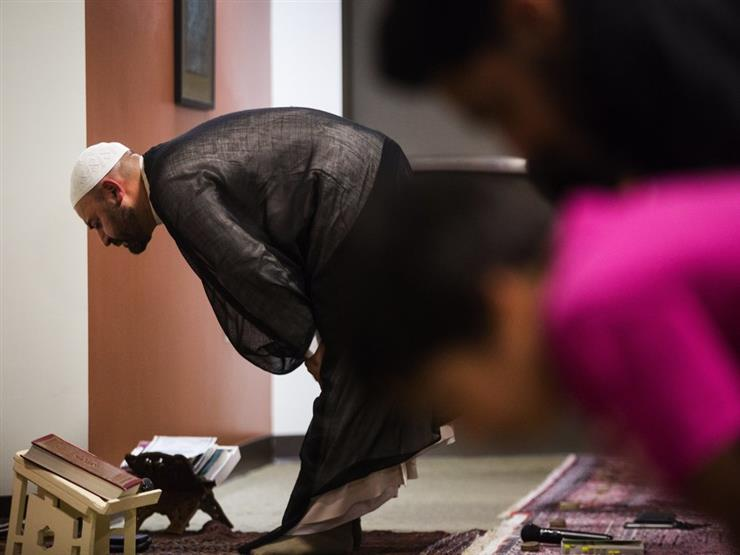ruku: (55, 76, 433, 555)
